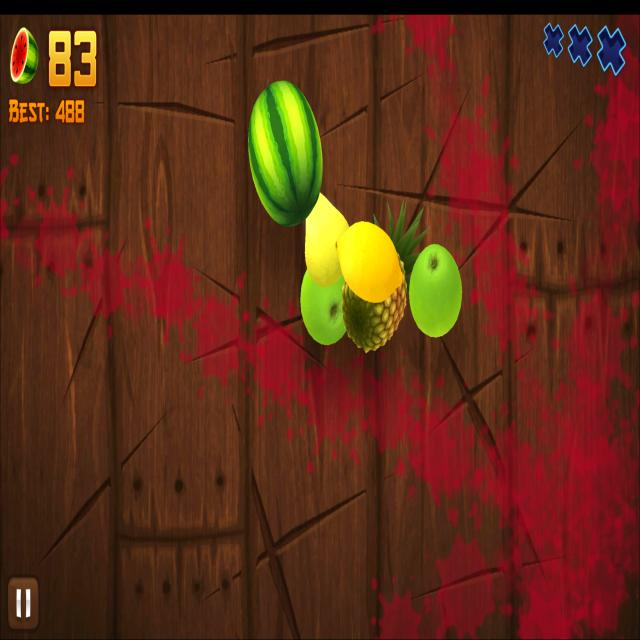fruit: (248, 80, 323, 228), (342, 253, 406, 353), (338, 220, 402, 302), (410, 244, 462, 338), (305, 192, 350, 285), (300, 270, 347, 346)
